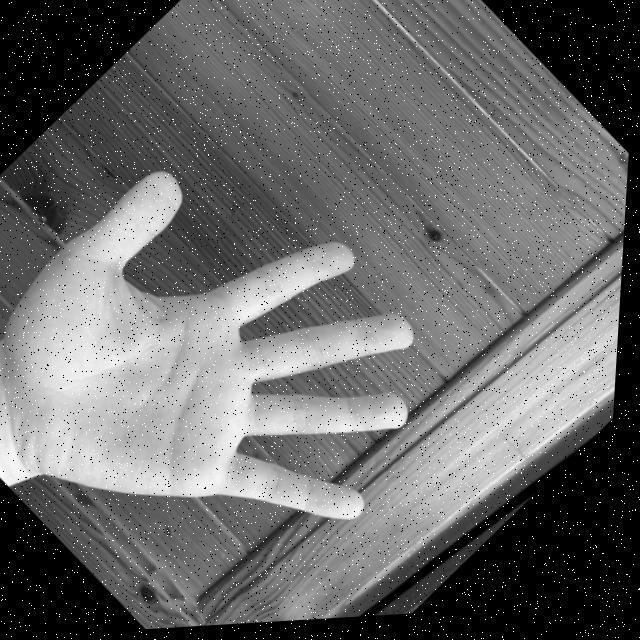no-gloves: (0, 85, 510, 640)
